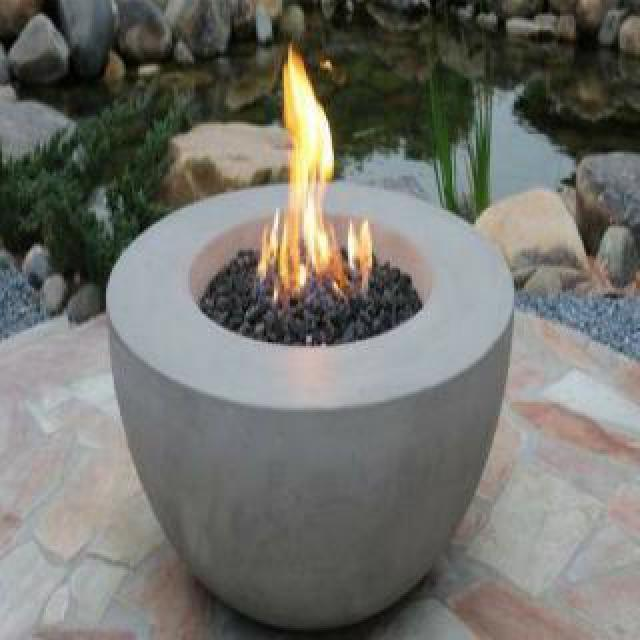Fire: (250, 32, 376, 314)
